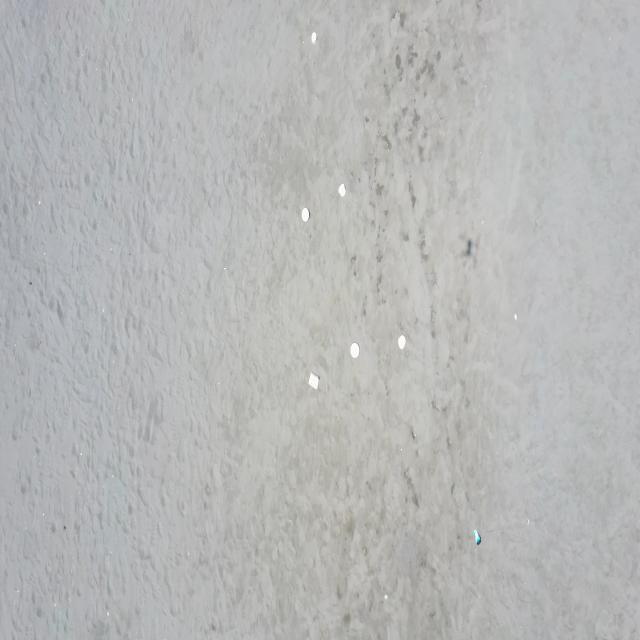take-away-containers: (308, 370, 320, 391), (350, 341, 361, 360), (301, 205, 310, 224), (398, 333, 407, 350), (338, 182, 347, 198), (311, 31, 318, 45)
takeaway-cup: (474, 529, 482, 545)
